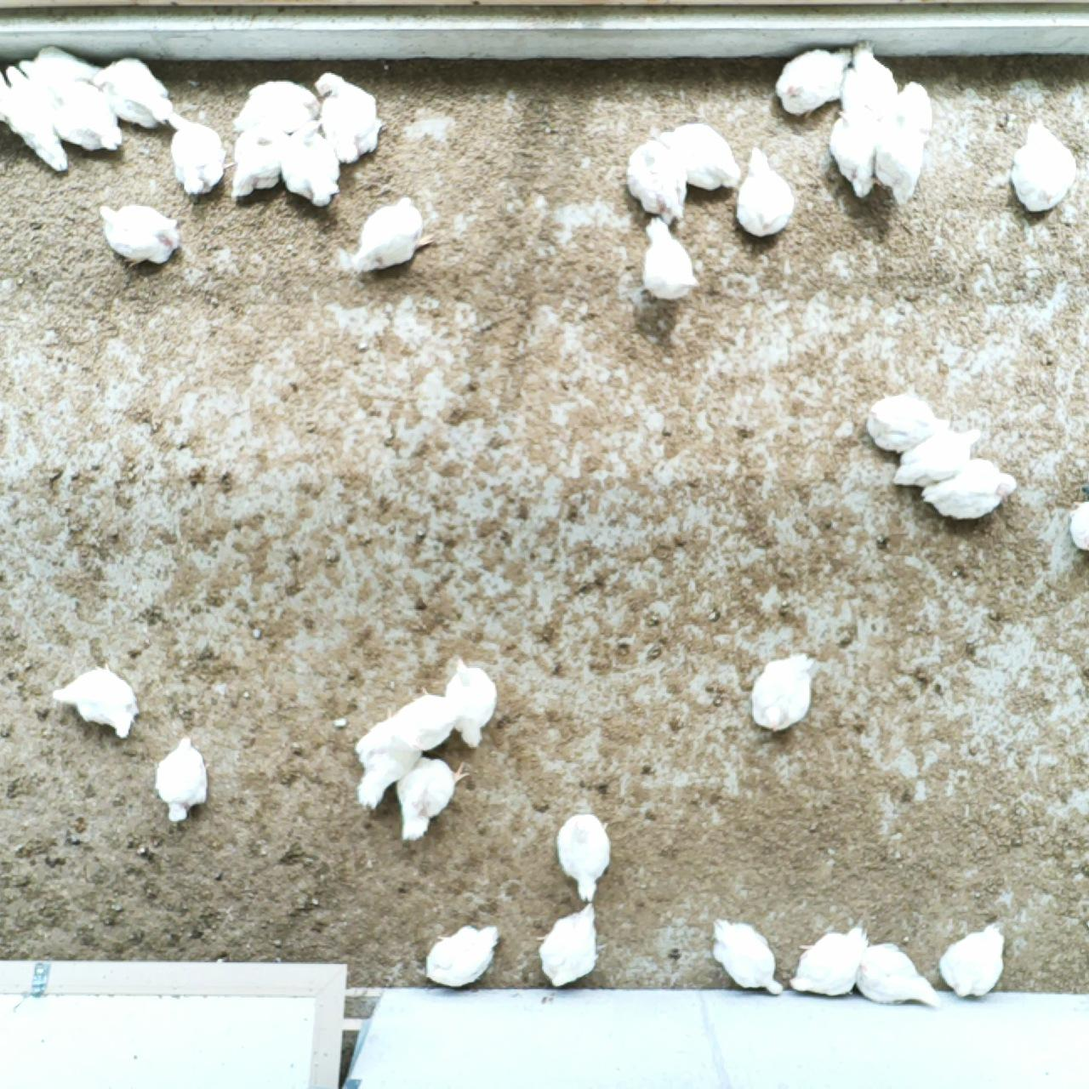chicken: (349, 704, 423, 820), (391, 751, 474, 849), (49, 658, 142, 745), (0, 64, 71, 175), (740, 648, 821, 744), (350, 191, 439, 278), (786, 916, 873, 1001), (310, 70, 387, 166), (38, 74, 127, 156), (704, 913, 786, 1000), (1007, 117, 1079, 215), (92, 53, 186, 127), (922, 453, 1021, 523), (731, 144, 800, 244), (771, 42, 856, 122), (415, 919, 504, 993), (165, 111, 237, 201), (854, 937, 941, 1011), (891, 424, 987, 491), (534, 903, 607, 991), (656, 118, 741, 192), (96, 199, 184, 269), (553, 810, 616, 906), (153, 731, 215, 828), (280, 118, 346, 209), (936, 920, 1010, 1001), (439, 653, 502, 748), (826, 102, 886, 201), (625, 134, 690, 223), (639, 214, 704, 303), (863, 390, 955, 451), (872, 108, 927, 203), (835, 37, 896, 119), (233, 76, 320, 133), (388, 685, 454, 756), (229, 124, 289, 202), (13, 41, 100, 93), (894, 80, 936, 132), (1065, 494, 1089, 553)
